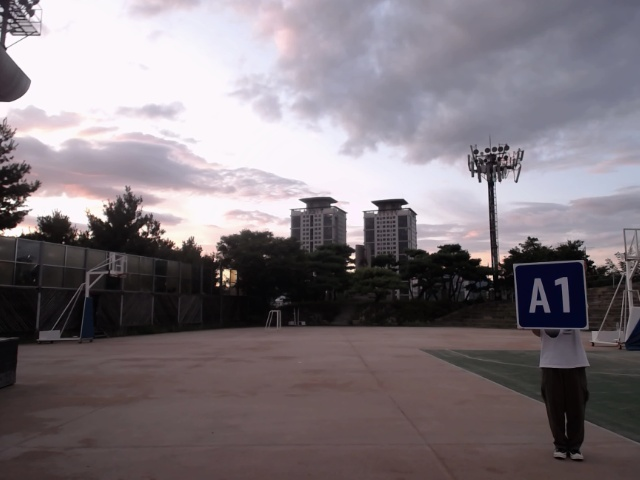delivery_a1: (516, 261, 588, 329)
